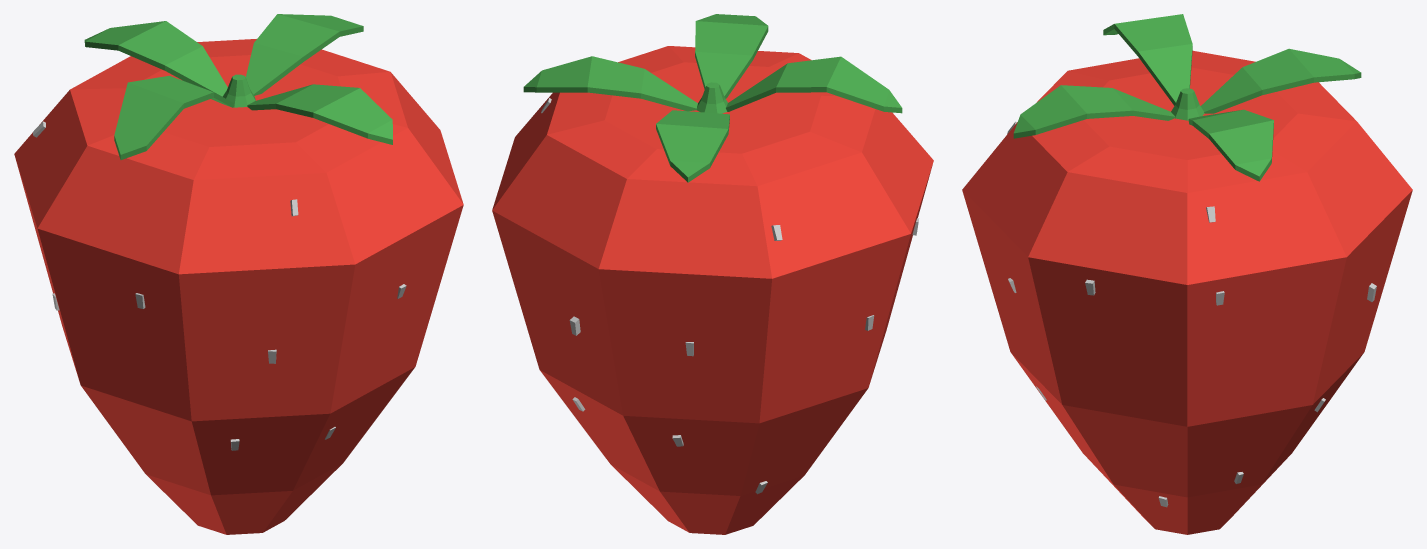
File: Strawberry_01.obj
The picture shows the model from 3 angles, left to right: view 1: azimuth 30°, elevation 25°; view 2: azimuth 150°, elevation 25°; view 3: azimuth 270°, elevation 25°; orthographic projection. The views are drawn at different scales.
Parts seen in each view (by area): view 1: Circle.004_Circle.002; view 2: Circle.004_Circle.002; view 3: Circle.004_Circle.002.
Boxes of the visible parts, box(x1,y1,x2,y2) form: Circle.004_Circle.002: box(14, 14, 463, 534); Circle.004_Circle.002: box(492, 14, 933, 534); Circle.004_Circle.002: box(962, 14, 1412, 534).
Bounding box in the file's own units: 8.74 × 9.97 × 8.74.
